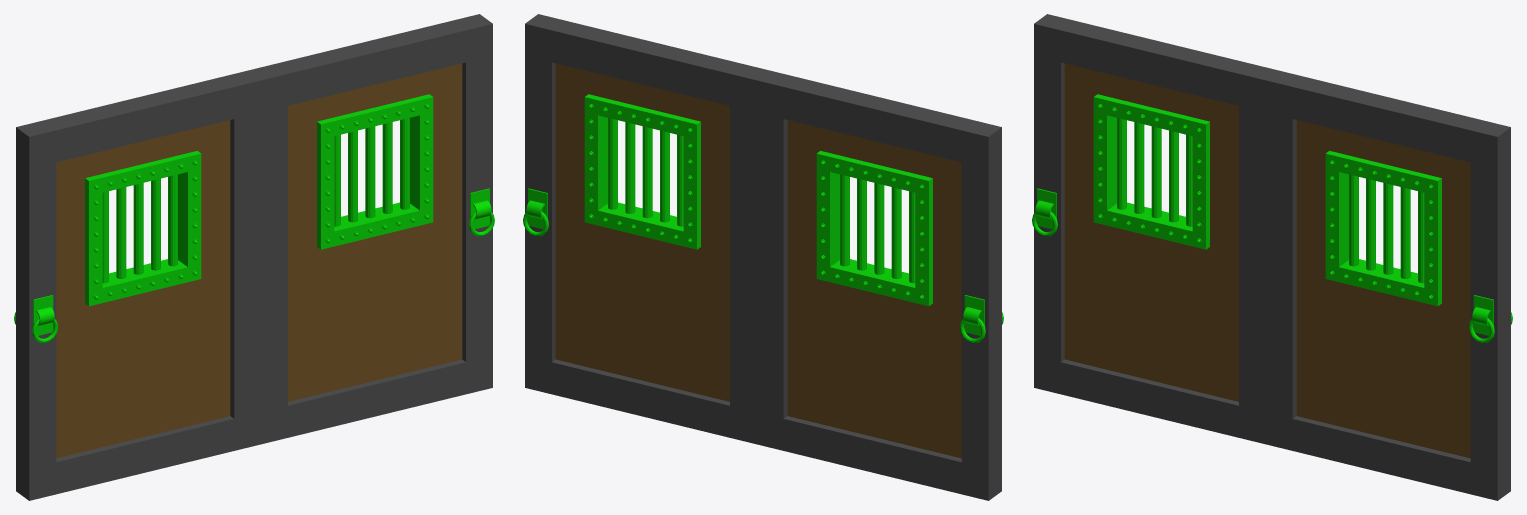
Rendered from dvereBludiste.fbx.
3 views of the same model, side by side, from view 1: azimuth 30°, elevation 25°; view 2: azimuth 150°, elevation 25°; view 3: azimuth 330°, elevation 25° (orthographic).
Visible parts, largest first — view 1: Cube, Cube.001; view 2: Cube, Cube.001; view 3: Cube.001, Cube.
Part boxes in pixels (<box>): Cube: <box>14,70,261,500</box>; Cube.001: <box>248,14,494,444</box>; Cube: <box>756,70,1003,500</box>; Cube.001: <box>523,14,769,444</box>; Cube.001: <box>1265,70,1512,500</box>; Cube: <box>1032,14,1278,444</box>.
Bounding box in the file's own units: 400 × 300 × 34.36.
